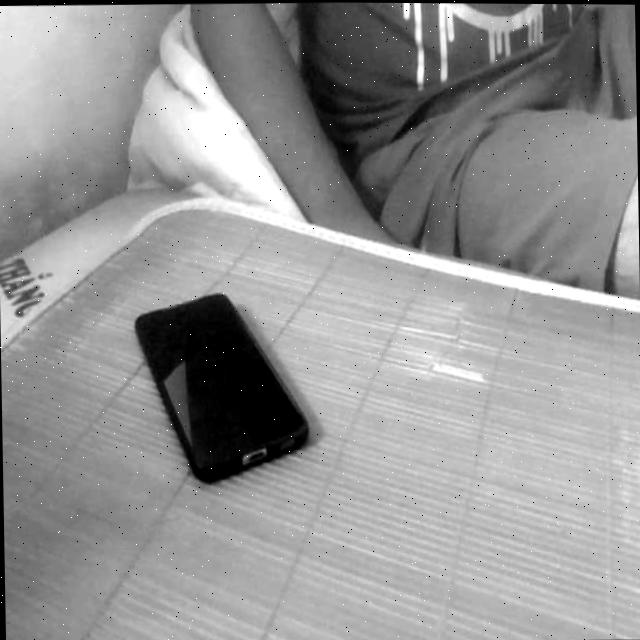phone: (119, 271, 322, 496)
